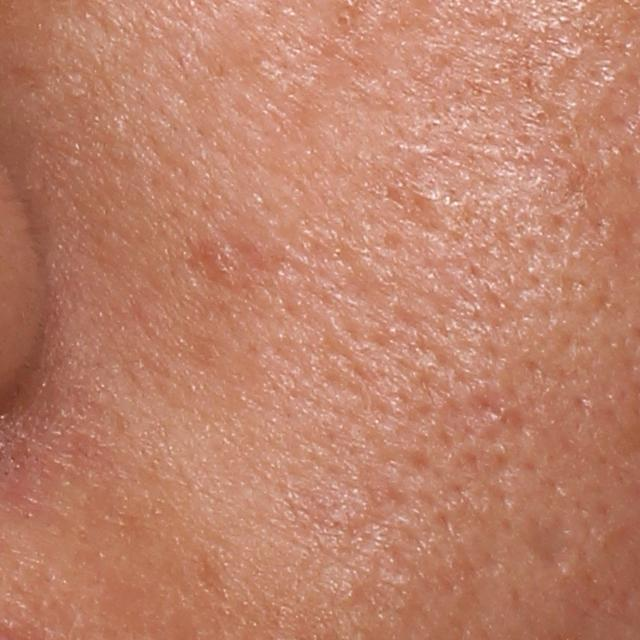atrophic_scar: (380, 180, 459, 241), (182, 236, 239, 300), (521, 513, 574, 573)
comedo: (334, 12, 352, 31)
